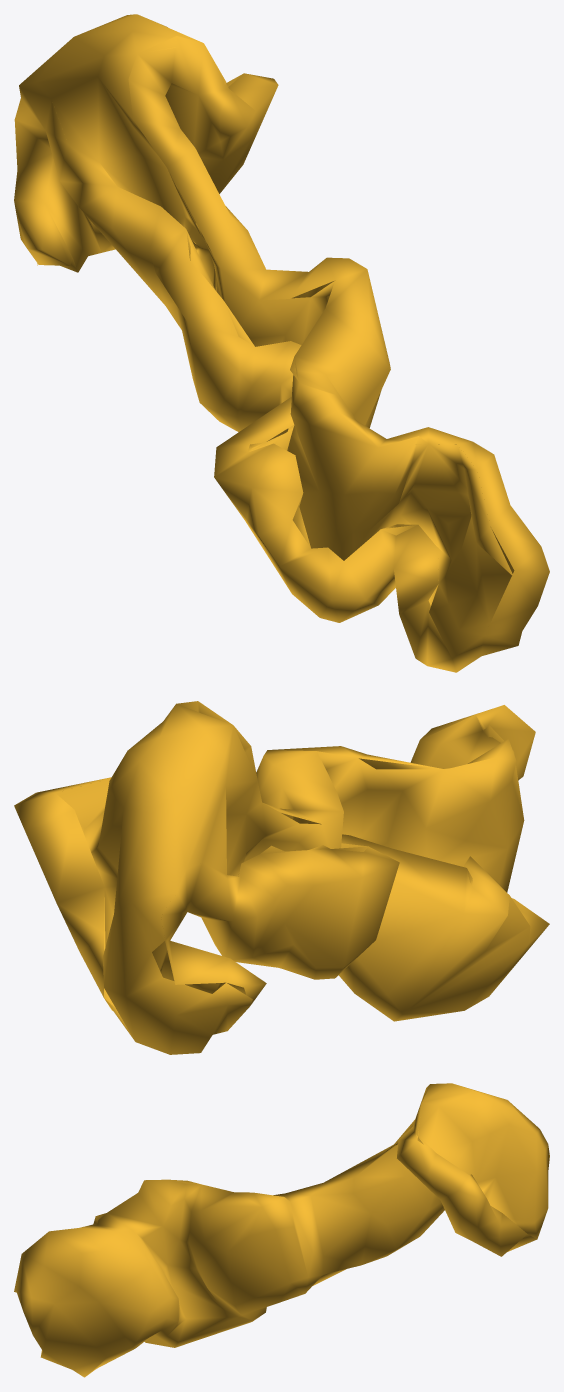
File: nervoso-superior-frontal-sulcus-r.glb
3 renders of one model, top to bottom at view 1: azimuth 30°, elevation 25°; view 2: azimuth 150°, elevation 25°; view 3: azimuth 270°, elevation 25°, orthographic. The views are drawn at different scales.
Visible parts, largest first — view 1: Superior frontal sulcus.r; view 2: Superior frontal sulcus.r; view 3: Superior frontal sulcus.r.
Part boxes in pixels (x1,y1,x2,y2): Superior frontal sulcus.r: [14, 14, 549, 672]; Superior frontal sulcus.r: [14, 701, 549, 1054]; Superior frontal sulcus.r: [14, 1083, 549, 1377].
Size of the model in its own units: 0.0244 by 0.0396 by 0.0674.
